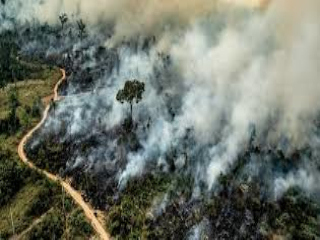smoke: (57, 40, 290, 194)
